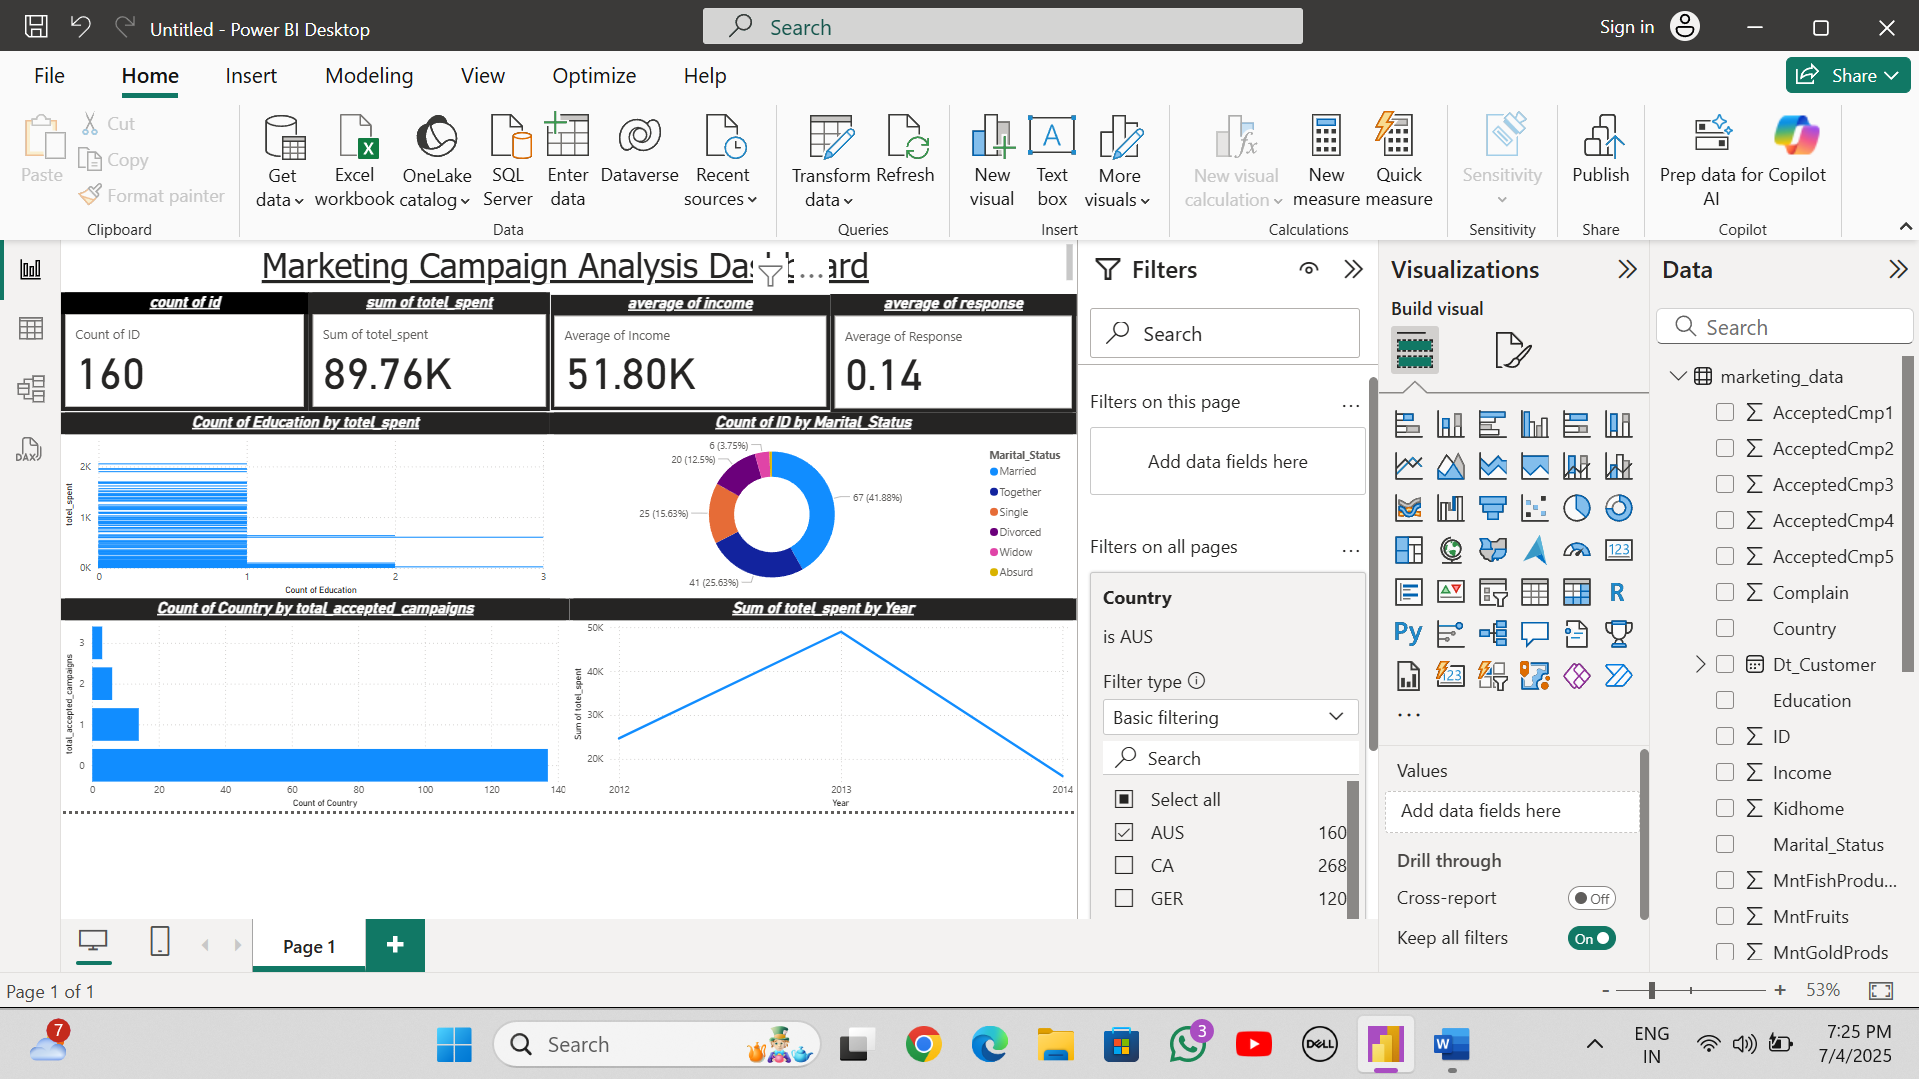

This screenshot's page, from the dashboard's own definition file:
{"tool":"powerbi","page":{"name":"Page 1","canvas":[1280,720],"ordinal":0},"visuals":[{"type":"textbox","box":[0,0,1279.4,66.1],"z":0},{"type":"cardVisual","title":"count of id","fields":{"Data":["CountNonNull(marketing_data.ID)"]},"box":[0,66.1,311.8,149.3],"z":1},{"type":"cardVisual","title":"sum of totel_spent","fields":{"Data":["Sum(marketing_data.totel_spent)"]},"box":[311.8,66.1,304.3,149.3],"z":2},{"type":"cardVisual","title":"average of income","fields":{"Data":["Avg(marketing_data.Income)"]},"box":[616.1,68,353.4,147.4],"z":3},{"type":"cardVisual","title":"average of response","fields":{"Data":["Avg(marketing_data.Response)"]},"box":[969.5,68,309.9,149.3],"z":4},{"type":"barChart","fields":{"Y":["CountNonNull(marketing_data.Education)"],"Category":["marketing_data.totel_spent"]},"box":[0,217.3,616.1,234.3],"z":5},{"type":"barChart","fields":{"Y":["CountNonNull(marketing_data.Country)"],"Category":["marketing_data.total_accepted_campaigns"]},"box":[0,451.7,640.6,268.3],"z":6},{"type":"donutChart","fields":{"Category":["marketing_data.Marital_Status"],"Y":["CountNonNull(marketing_data.ID)"]},"box":[616.1,217.3,663.3,234.3],"z":7},{"type":"lineChart","fields":{"Category":["marketing_data.Dt_Customer.Variation.Date Hierarchy.Year","marketing_data.Dt_Customer.Variation.Date Hierarchy.Quarter","marketing_data.Dt_Customer.Variation.Date Hierarchy.Month","marketing_data.Dt_Customer.Variation.Date Hierarchy.Day"],"Y":["Sum(marketing_data.totel_spent)"]},"box":[640.6,451.7,638.7,268.3],"z":8}]}

Visuals, with their boxes on the page's 1280x720 design canvas (x1, y1, x2, y2). These are canvas units, not pixel positions in the 1919x1079 screenshot, which may show the page scaled, cropped or inside an application window:
textbox: [left=0, top=0, right=1279, bottom=66]
"count of id" cardVisual: [left=0, top=66, right=312, bottom=215]
"sum of totel_spent" cardVisual: [left=312, top=66, right=616, bottom=215]
"average of income" cardVisual: [left=616, top=68, right=970, bottom=215]
"average of response" cardVisual: [left=970, top=68, right=1279, bottom=217]
barChart - CountNonNull(marketing_data.Education) x marketing_data.totel_spent: [left=0, top=217, right=616, bottom=452]
barChart - CountNonNull(marketing_data.Country) x marketing_data.total_accepted_campaigns: [left=0, top=452, right=641, bottom=720]
donutChart - marketing_data.Marital_Status x CountNonNull(marketing_data.ID): [left=616, top=217, right=1279, bottom=452]
lineChart - marketing_data.Dt_Customer.Variation.Date Hierarchy.Year x marketing_data.Dt_Customer.Variation.Date Hierarchy.Quarter: [left=641, top=452, right=1279, bottom=720]
